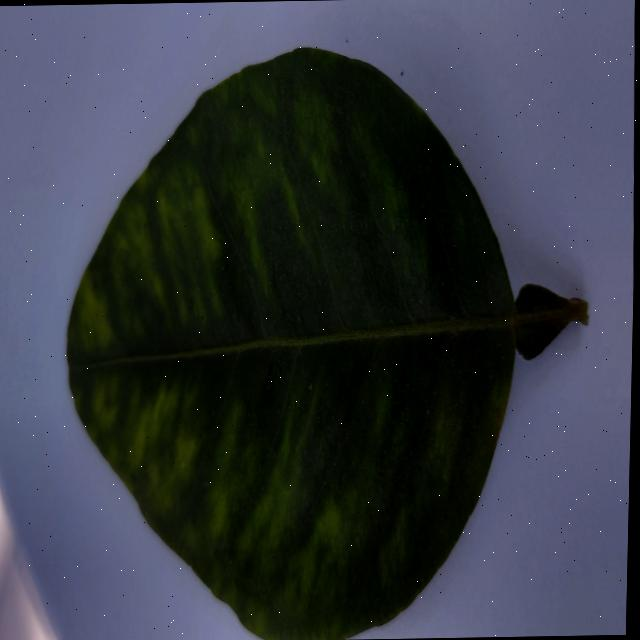greening: (66, 50, 585, 640)
